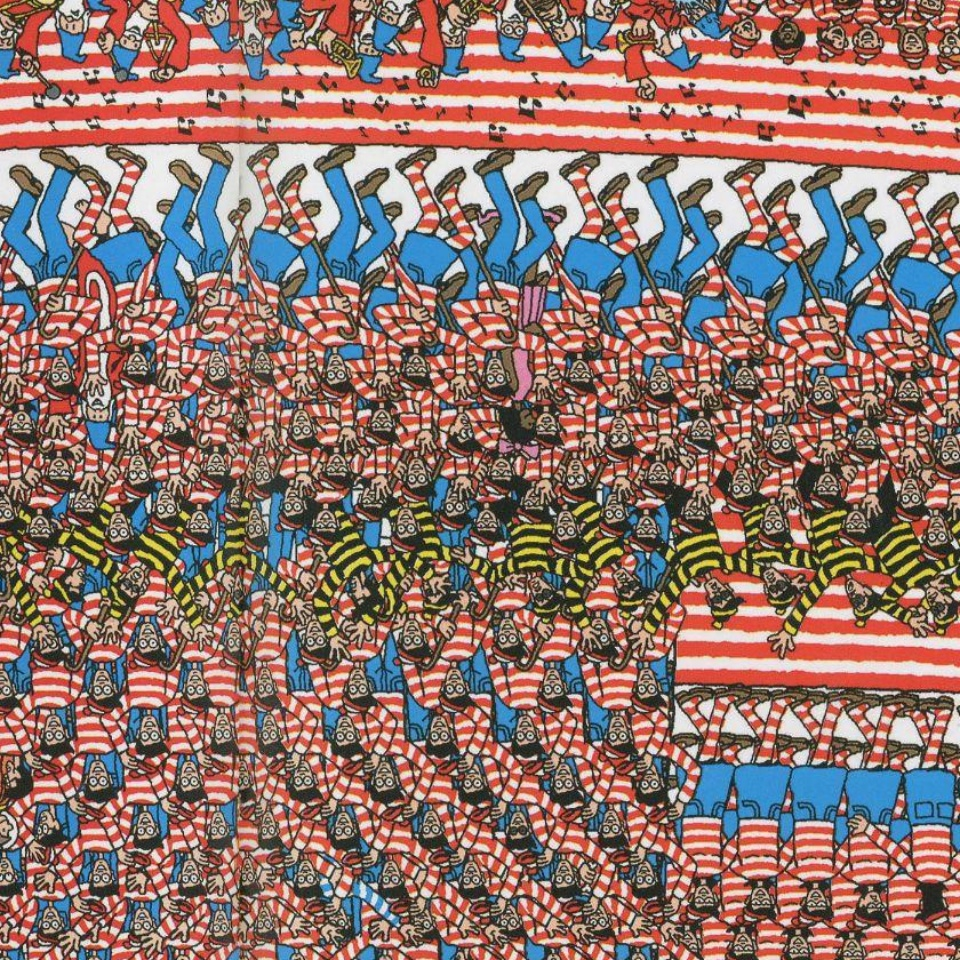waldo: (37, 279, 88, 402), (626, 607, 680, 716), (314, 283, 363, 401), (805, 296, 851, 420), (638, 297, 688, 410), (474, 284, 519, 405), (434, 610, 486, 714), (338, 623, 394, 716), (582, 668, 636, 760), (531, 623, 583, 717), (195, 281, 236, 398), (120, 398, 163, 504), (397, 412, 444, 503), (81, 638, 127, 718), (26, 865, 70, 946), (917, 482, 960, 564), (177, 637, 221, 716), (489, 592, 534, 666), (0, 611, 31, 716), (129, 598, 171, 668), (930, 381, 960, 478), (392, 607, 437, 669), (123, 889, 165, 951), (99, 497, 139, 560), (760, 409, 800, 470), (719, 463, 762, 517), (293, 622, 344, 667), (282, 397, 319, 456), (76, 918, 125, 960), (601, 409, 637, 465), (0, 906, 37, 960), (754, 502, 792, 552), (387, 505, 423, 556), (442, 412, 478, 462), (546, 510, 585, 556), (890, 479, 927, 526), (435, 487, 469, 533), (558, 456, 589, 505), (275, 486, 308, 531), (596, 494, 629, 539), (204, 904, 234, 952), (148, 491, 181, 534), (248, 452, 274, 502), (243, 507, 269, 554), (574, 935, 619, 960), (367, 936, 408, 960), (0, 498, 22, 541)
